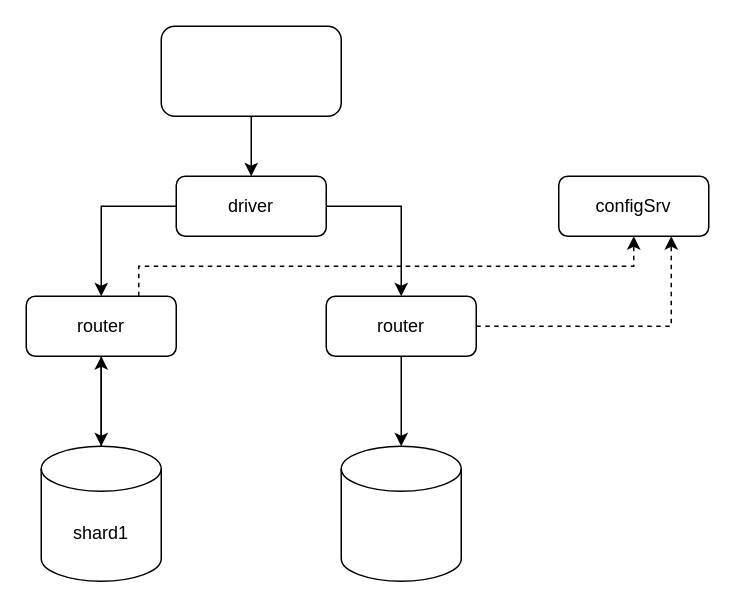
Some shapes in this 735 by 608 pixel diagram are drawn without their labels. Each missing label, with the box of its shape:
pymongo-api: (160, 25, 341, 116)
shard2: (340, 445, 461, 581)
